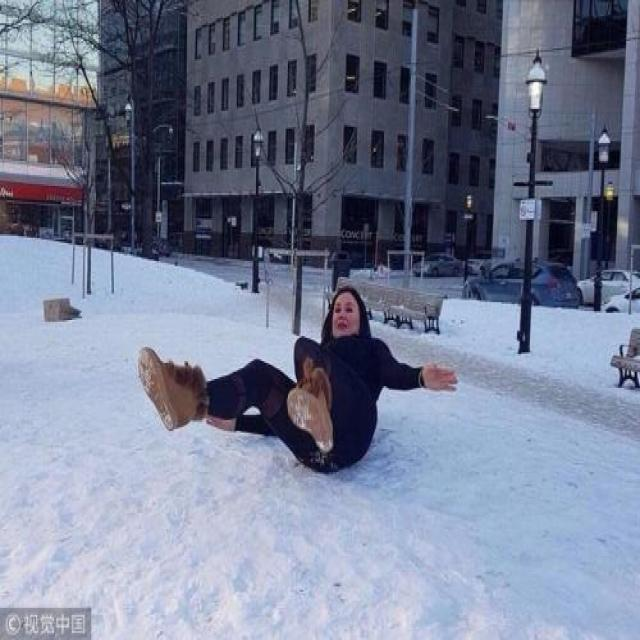down: (131, 281, 458, 477)
